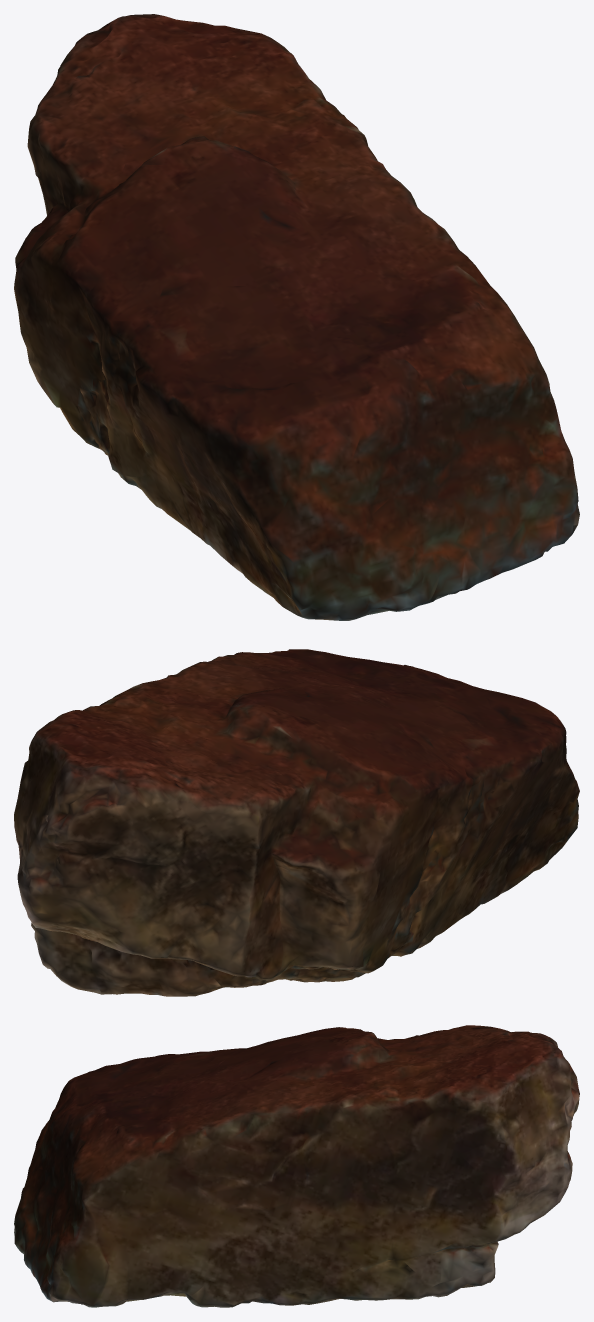
Rendered from rock_07.glb.
3 views of the same model, one above another, from view 1: azimuth 30°, elevation 25°; view 2: azimuth 150°, elevation 25°; view 3: azimuth 270°, elevation 25° (orthographic). The views are drawn at different scales.
Visible parts, largest first — view 1: rock_07; view 2: rock_07; view 3: rock_07.
Part boxes in pixels (x1,y1,x2,y2): rock_07: (14, 14, 579, 620); rock_07: (14, 649, 579, 996); rock_07: (14, 1025, 579, 1307).
Size of the model in its own units: 0.1689 by 0.1437 by 0.3203.
1 material, 1 textured.
